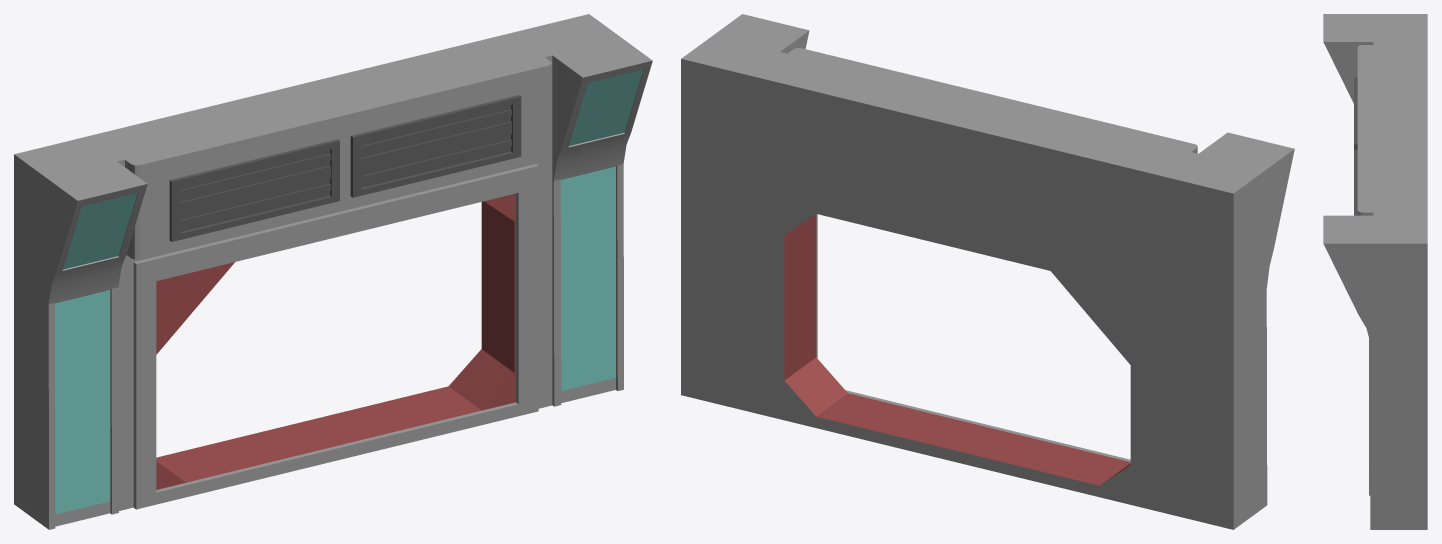
The model's file is U2_doorway_01.fbx.
3 views of the same model, side by side, from view 1: azimuth 30°, elevation 25°; view 2: azimuth 150°, elevation 25°; view 3: azimuth 270°, elevation 25° (orthographic). The views are drawn at different scales.
Visible parts, largest first — view 1: U2_doorway_01; view 2: U2_doorway_01; view 3: U2_doorway_01.
Part boxes in pixels (box(x1,y1,x2,y2)): U2_doorway_01: box(14, 14, 652, 529); U2_doorway_01: box(681, 14, 1294, 529); U2_doorway_01: box(1323, 14, 1427, 529).
Size of the model in its own units: 9.29 by 5.41 by 1.78.
